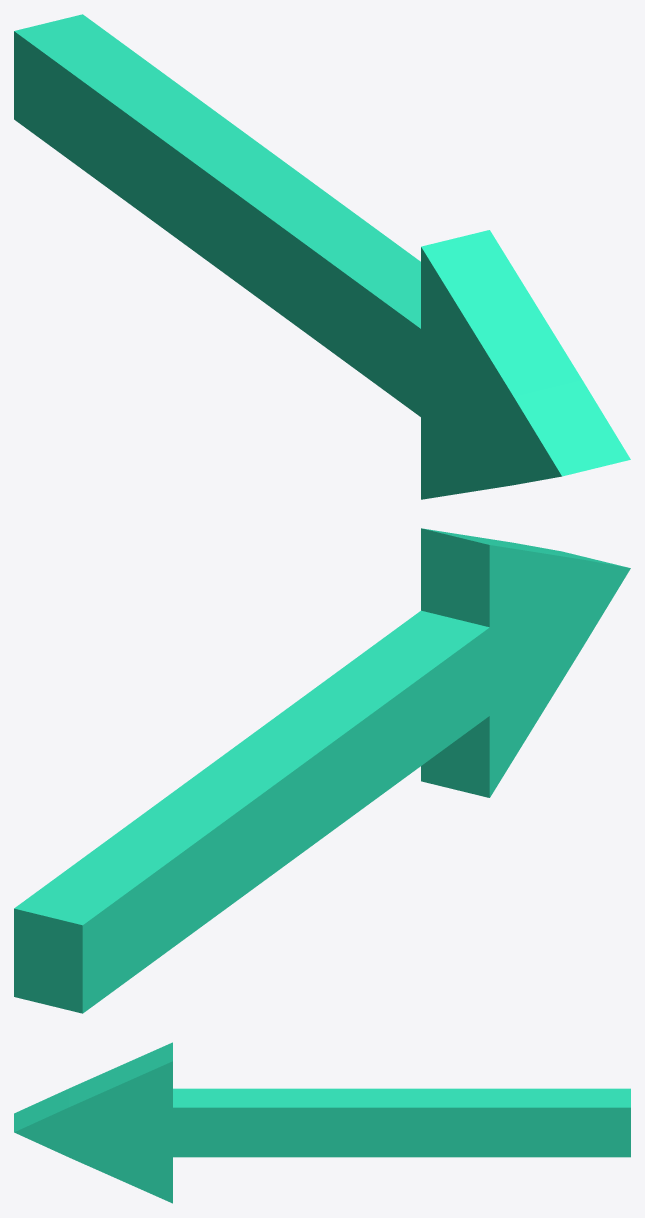
Rendered from ClockMinuteHand.fbx.
The picture shows the model from 3 angles, top to bottom: view 1: azimuth 30°, elevation 25°; view 2: azimuth 150°, elevation 25°; view 3: azimuth 270°, elevation 25°; orthographic projection. The views are drawn at different scales.
Visible parts, largest first — view 1: ClockHand3; view 2: ClockHand3; view 3: ClockHand3.
Part boxes in pixels (x1=…): ClockHand3: x1=14, y1=14, x2=630, y2=499; ClockHand3: x1=14, y1=528, x2=630, y2=1013; ClockHand3: x1=14, y1=1042, x2=630, y2=1203.
Bounding box in the file's own units: 5738 × 20168 × 79182.
1 material, 1 textured.
